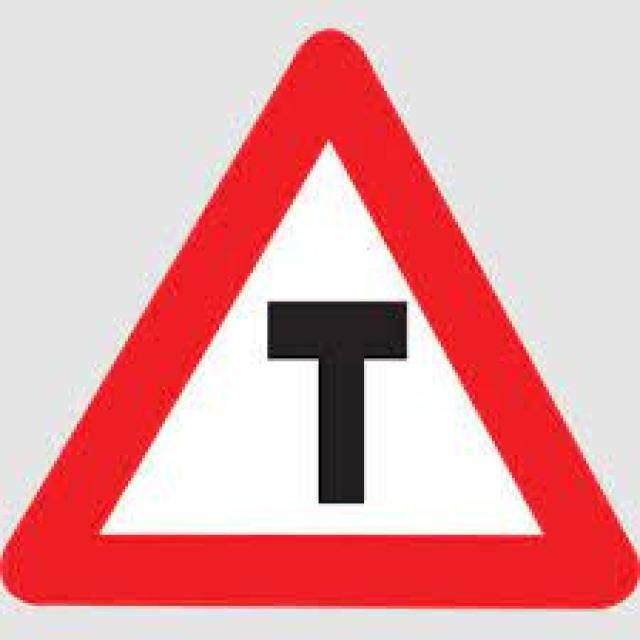t intersection: (21, 26, 623, 607)
